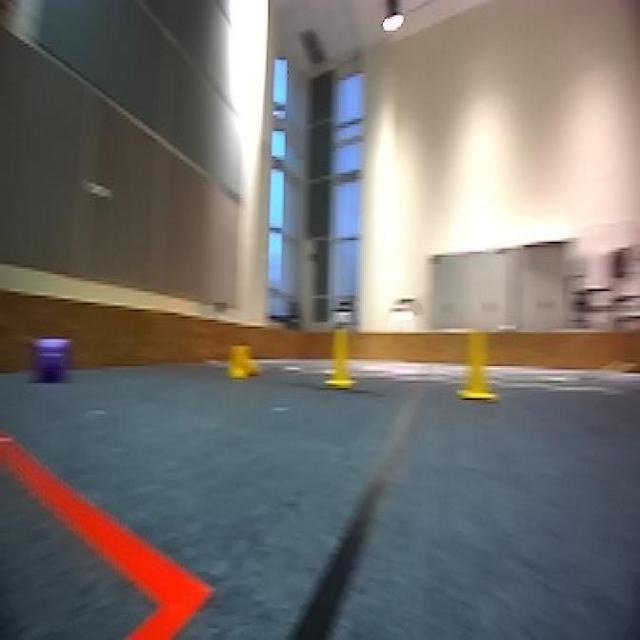frc_cone: (450, 322, 504, 403), (322, 325, 360, 386), (227, 344, 263, 381)
frc_cube: (38, 332, 67, 376)
